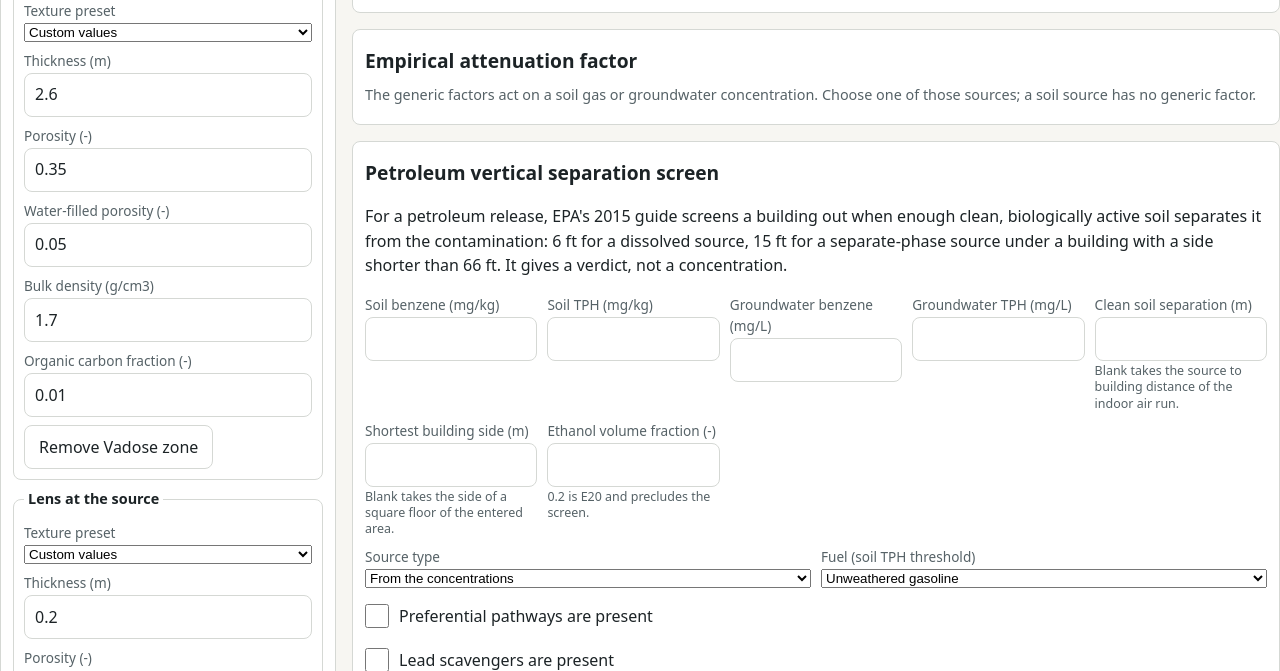
it: petroleum vapor screen › lists a precluding factor
The image size is (1280, 671).
(page scrolled)
In the field labelled "Groundwater benzene (mg/L)": (816, 360) 730,338 -> 902,382, type "1"
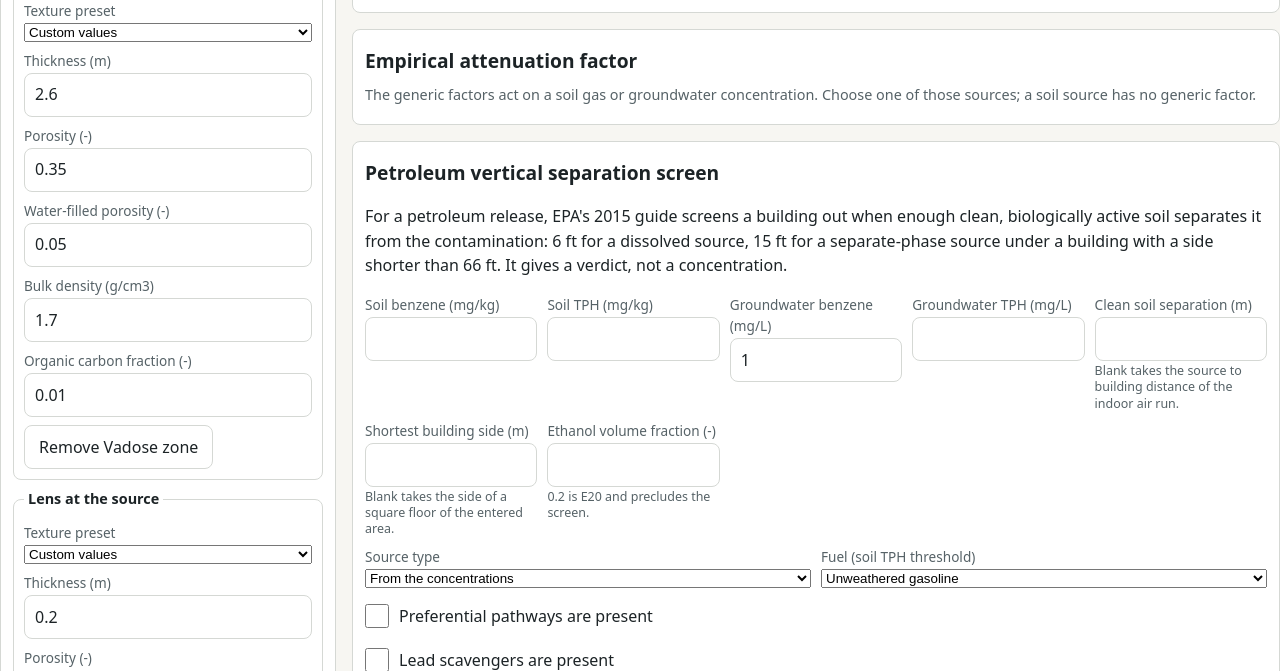
Click the checkbox labelled "Preferential pathways are present": (377, 616) 365,604 -> 389,628
(page scrolled)
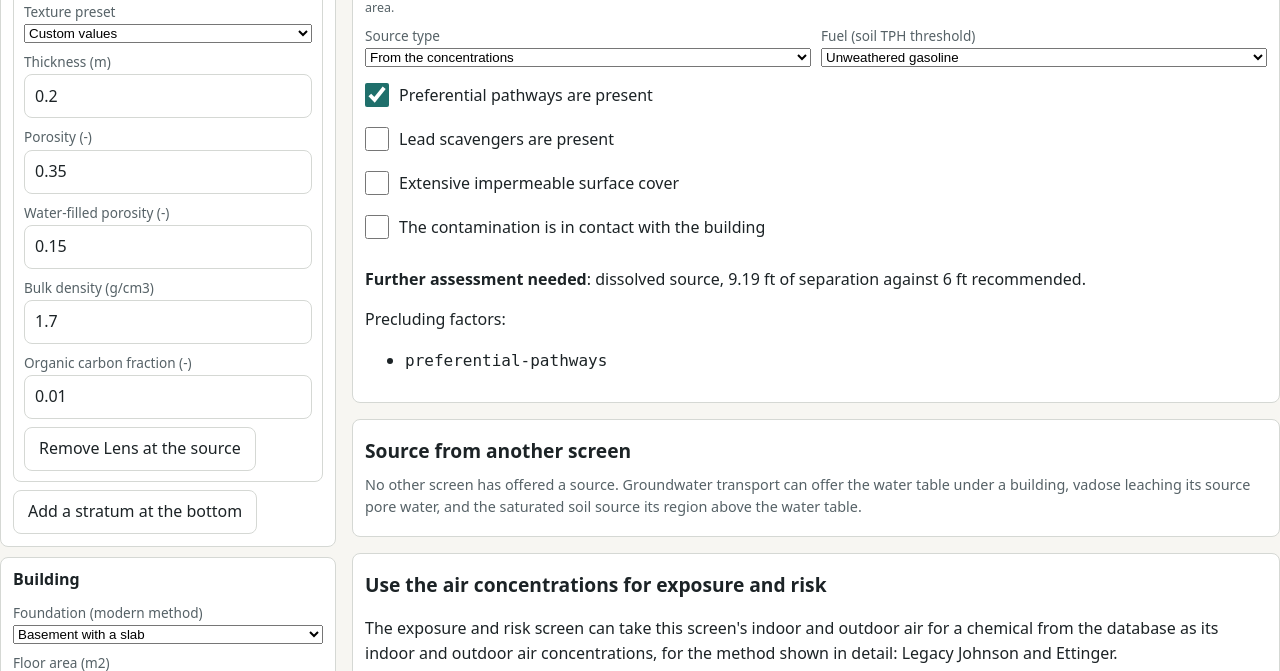
Expected: the text "Further assessment needed" is shown, 365,268 -> 587,290
Expected: the text "preferential-pathways" is shown, 405,351 -> 607,370
